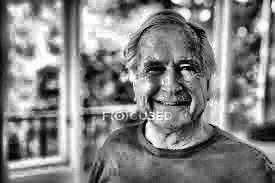happy: (120, 26, 215, 140)
